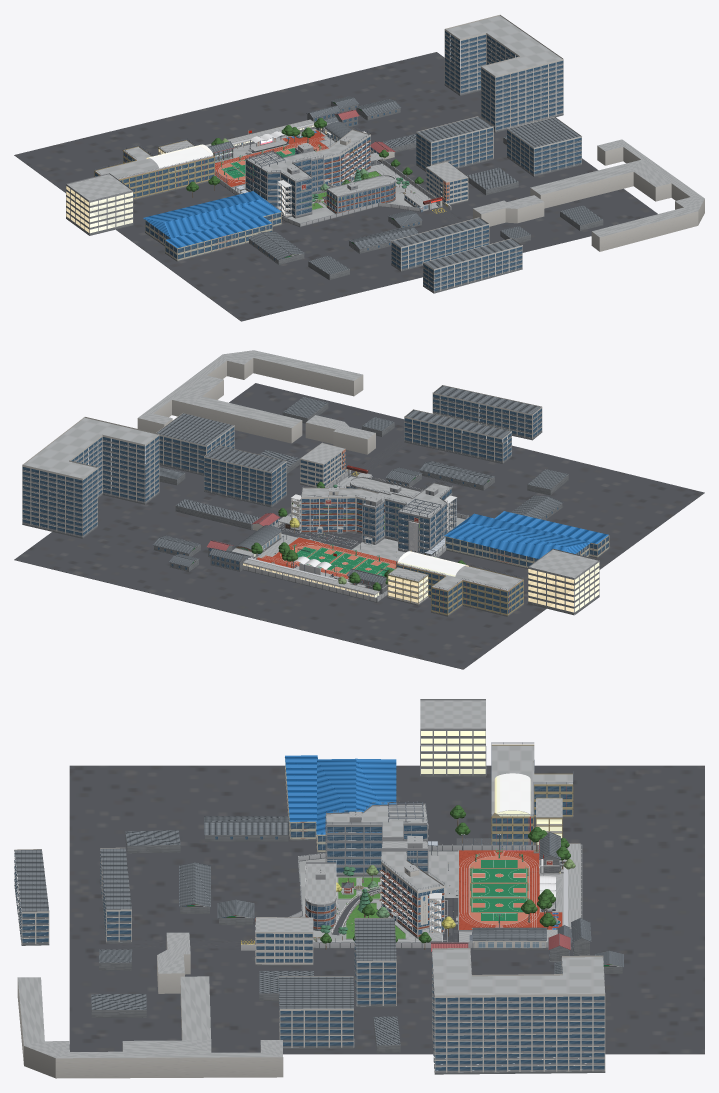
File: west-campus-classic.glb
3 views of the same model, one above another, from view 1: azimuth 30°, elevation 25°; view 2: azimuth 150°, elevation 25°; view 3: azimuth 270°, elevation 25° (orthographic). The views are drawn at different scales.
Visible parts, largest first — view 1: Context_West, Campus_Ground_West, W-B1, W-B4, W-B3, W-P1, W-P2, W-B2, W-B5, W-B6; view 2: Context_West, Campus_Ground_West, W-B1, W-B3, W-P1, W-B5, W-B2, W-B6, W-B4, W-P2, W-H1, W-ST1; view 3: Campus_Ground_West, Context_West, W-P1, W-B1, W-B3, W-B6, W-B4, W-H1, W-B5, W-B2, W-L2, W-ST1 (+2 smaller).
Boxes of the visible parts, x1=… form: Context_West: x1=66, y1=14, x2=704, y2=293; Campus_Ground_West: x1=14, y1=52, x2=657, y2=321; W-B1: x1=245, y1=150, x2=312, y2=218; W-B4: x1=326, y1=173, x2=422, y2=213; W-B3: x1=314, y1=128, x2=370, y2=191; W-P1: x1=207, y1=127, x2=341, y2=186; W-P2: x1=245, y1=125, x2=300, y2=154; W-B2: x1=295, y1=143, x2=329, y2=194; W-B5: x1=205, y1=119, x2=315, y2=148; W-B6: x1=314, y1=116, x2=365, y2=149; Context_West: x1=22, y1=350, x2=609, y2=616; Campus_Ground_West: x1=14, y1=383, x2=704, y2=669; W-B1: x1=384, y1=481, x2=457, y2=555; W-B3: x1=301, y1=485, x2=379, y2=535; W-P1: x1=262, y1=537, x2=403, y2=578; W-B5: x1=243, y1=558, x2=379, y2=597; W-B2: x1=362, y1=490, x2=392, y2=545; W-B6: x1=227, y1=525, x2=281, y2=559; W-B4: x1=346, y1=475, x2=422, y2=519; W-P2: x1=282, y1=549, x2=339, y2=579; W-H1: x1=338, y1=568, x2=395, y2=594; W-ST1: x1=278, y1=494, x2=303, y2=533; Campus_Ground_West: x1=69, y1=765, x2=704, y2=1054; Context_West: x1=14, y1=699, x2=623, y2=1078; W-P1: x1=459, y1=849, x2=539, y2=929; W-B1: x1=325, y1=801, x2=428, y2=876; W-B3: x1=379, y1=849, x2=444, y2=938; W-B6: x1=469, y1=912, x2=572, y2=950; W-B4: x1=282, y1=860, x2=339, y2=937; W-H1: x1=528, y1=827, x2=575, y2=874; W-B5: x1=563, y1=843, x2=580, y2=928; W-B2: x1=378, y1=836, x2=430, y2=897; W-L2: x1=336, y1=865, x2=380, y2=899; W-ST1: x1=422, y1=893, x2=455, y2=942.
Size of the model in its own units: 333 by 37.35 by 294.
47 materials, 12 textured.
